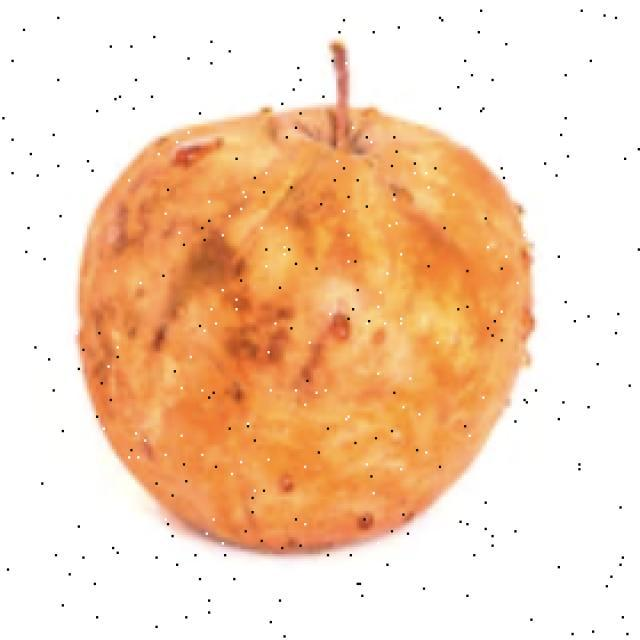Rotten: (102, 88, 548, 557)
